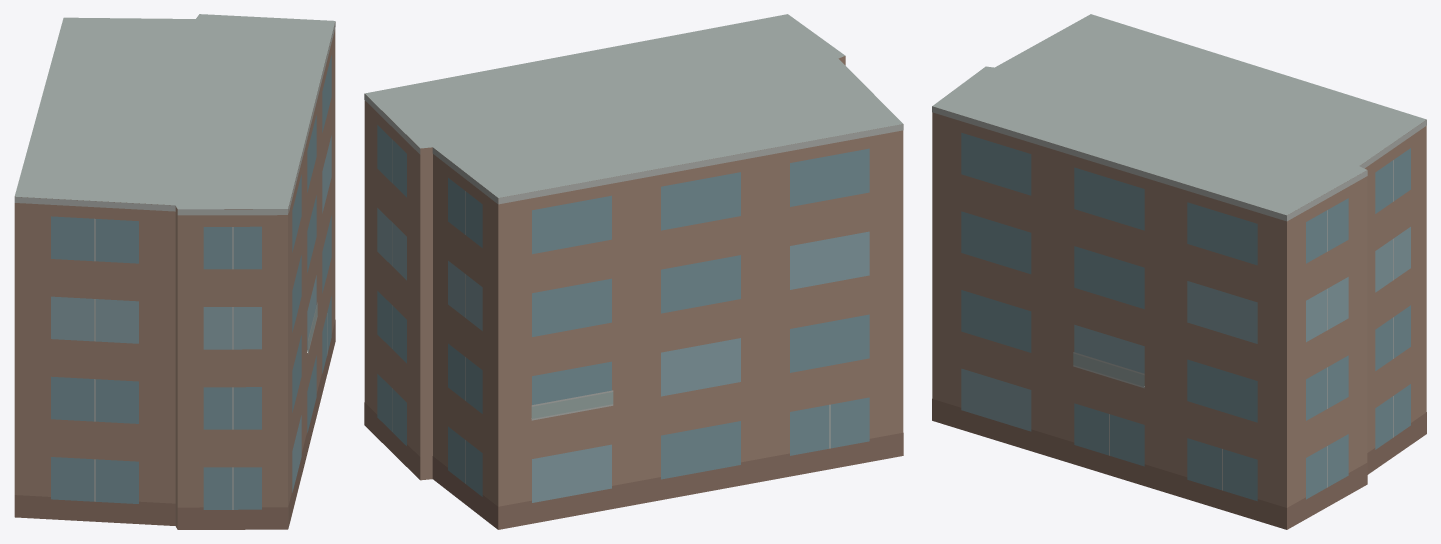
Rendered from survey-upis-32812401.glb.
3 views of the same model, side by side, from view 1: azimuth 30°, elevation 25°; view 2: azimuth 150°, elevation 25°; view 3: azimuth 270°, elevation 25° (orthographic). The views are drawn at different scales.
Visible parts, largest first — view 1: survey-upis-32812401.tmp; view 2: survey-upis-32812401.tmp; view 3: survey-upis-32812401.tmp.
Boxes of the visible parts, x1,y1,x2,y2 form: survey-upis-32812401.tmp: (14,14,335,529); survey-upis-32812401.tmp: (364,14,903,529); survey-upis-32812401.tmp: (932,14,1426,529).
Size of the model in its own units: 17.45 by 12.7 by 18.11.
